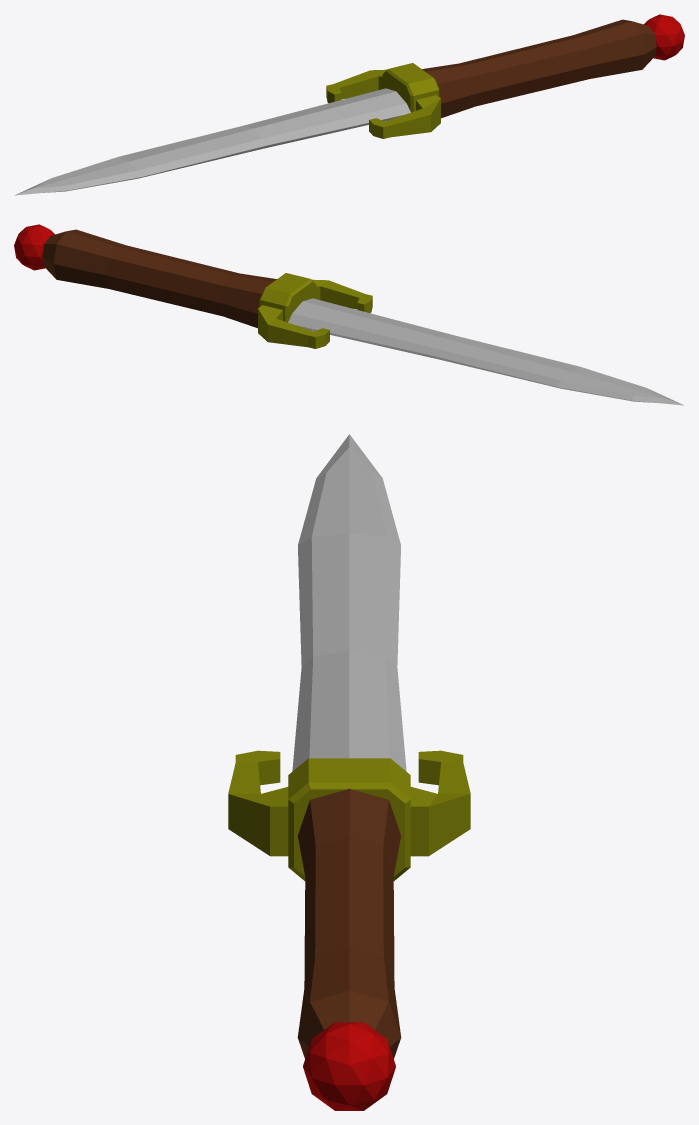
The model's file is knife.glb.
The picture shows the model from 3 angles, top to bottom: view 1: azimuth 30°, elevation 25°; view 2: azimuth 150°, elevation 25°; view 3: azimuth 270°, elevation 25°; orthographic projection. The views are drawn at different scales.
Visible parts, largest first — view 1: Knife; view 2: Knife; view 3: Knife.
Boxes of the visible parts, x1=… form: Knife: x1=14, y1=14, x2=684, y2=195; Knife: x1=14, y1=224, x2=684, y2=405; Knife: x1=228, y1=434, x2=470, y2=1110.
Bounding box in the file's own units: 2.63 × 0.1913 × 0.4136.
1 material, 1 textured.
